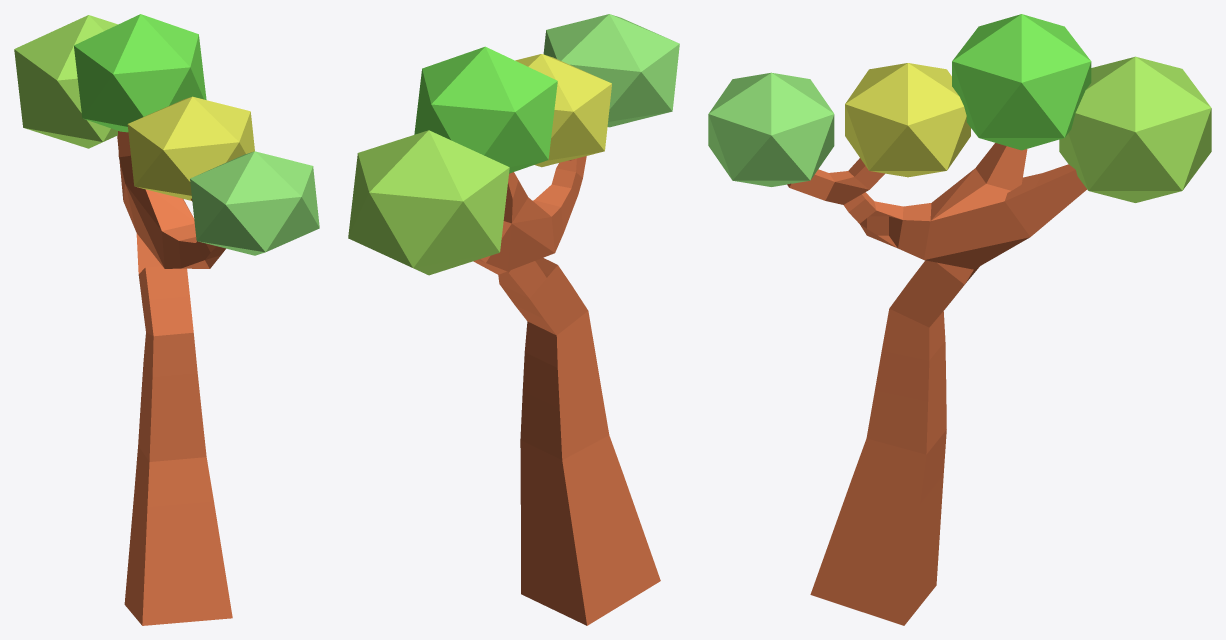
Rendered from arvore2.fbx.
3 renders of one model, left to right at view 1: azimuth 30°, elevation 25°; view 2: azimuth 150°, elevation 25°; view 3: azimuth 270°, elevation 25°, orthographic. The views are drawn at different scales.
Parts seen in each view (by area): view 1: Cube, Icosphere.003, Icosphere, Icosphere.001, Icosphere.002; view 2: Cube, Icosphere.002, Icosphere.003, Icosphere, Icosphere.001; view 3: Cube, Icosphere.002, Icosphere.003, Icosphere, Icosphere.001.
Part boxes in pixels (<box>): Cube: <box>117,131,232,625</box>; Icosphere.003: <box>74,14,206,132</box>; Icosphere: <box>190,151,319,255</box>; Icosphere.001: <box>127,96,254,200</box>; Icosphere.002: <box>14,15,117,148</box>; Cube: <box>473,156,660,625</box>; Icosphere.002: <box>348,130,509,275</box>; Icosphere.003: <box>414,46,557,173</box>; Icosphere: <box>543,14,679,127</box>; Icosphere.001: <box>515,54,611,167</box>; Cube: <box>787,143,1086,625</box>; Icosphere.002: <box>1059,56,1211,202</box>; Icosphere.003: <box>952,14,1091,150</box>; Icosphere: <box>708,72,834,186</box>; Icosphere.001: <box>845,63,970,177</box>.
Size of the model in its own units: 146 by 526 by 399.
